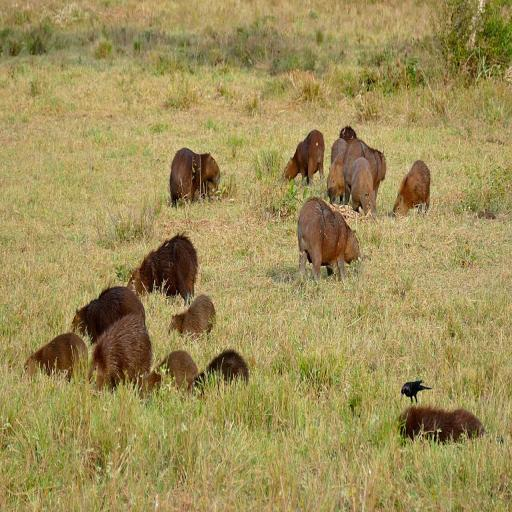capybara: (298, 198, 360, 279), (128, 234, 197, 305), (88, 315, 152, 390), (72, 287, 145, 343), (399, 407, 485, 442), (170, 148, 220, 206), (24, 333, 87, 379), (344, 139, 386, 204), (140, 350, 197, 396), (284, 131, 324, 183), (194, 350, 249, 387), (393, 161, 430, 215), (169, 294, 215, 334), (352, 158, 376, 218), (331, 126, 357, 163), (328, 155, 344, 204), (331, 139, 347, 165), (340, 125, 357, 143)
